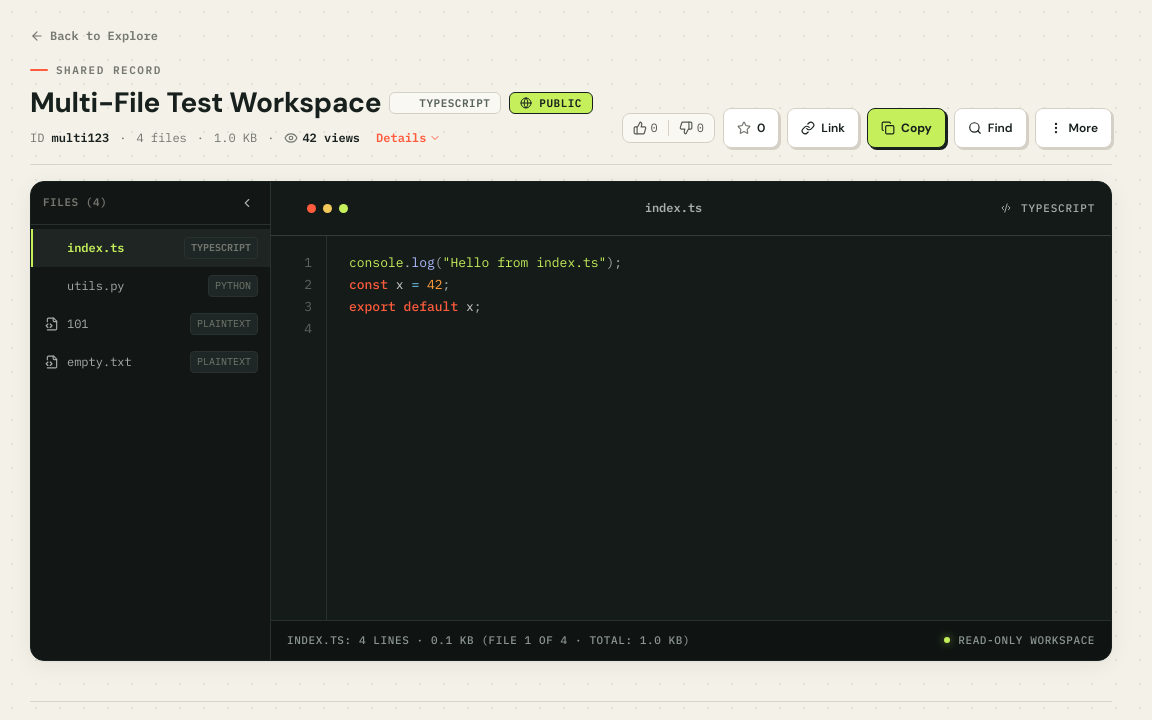
Test case: Multi-File Workspace (Developer Handoff Experience) › FE-WS-CPY-03: When navigator.clipboard.writeText rejects, displays the manual copy fallback modal with focused textarea; does not show false success
Click the button named "Copy index.ts" at (906, 128), box [867,108,946,148]
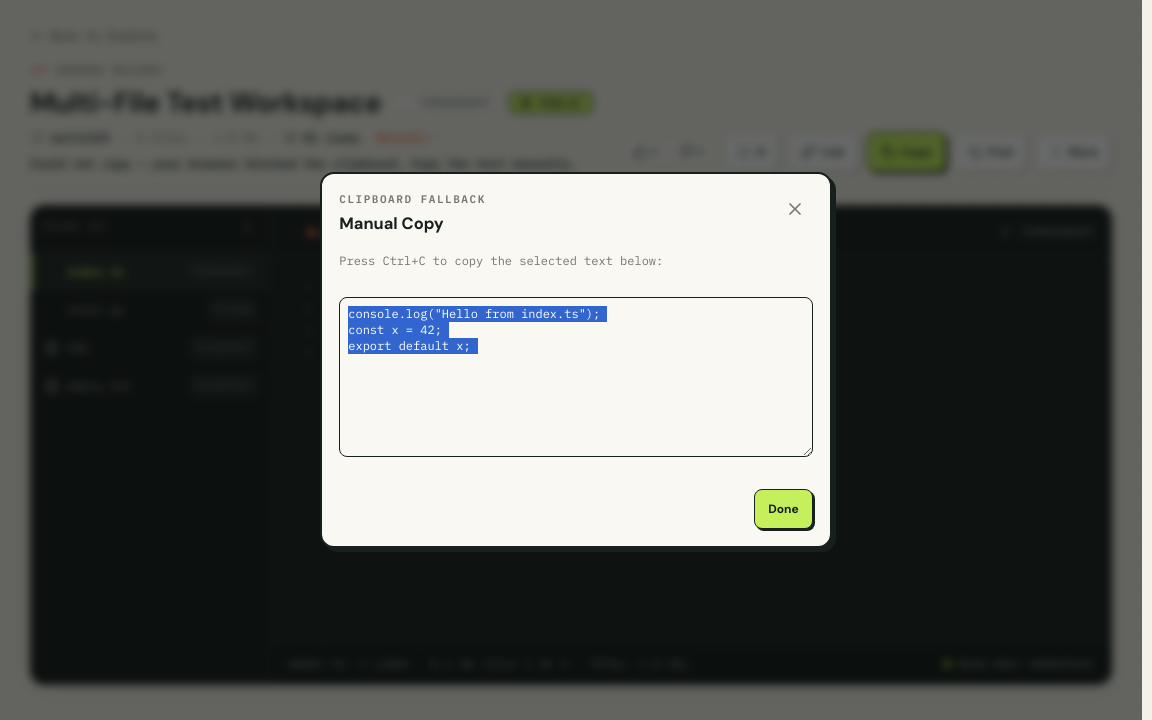
Result: the dialog "Manual Copy" is shown
Result: the text "Press Ctrl+C to copy the selected text below:" is shown at [339,253,663,268]
